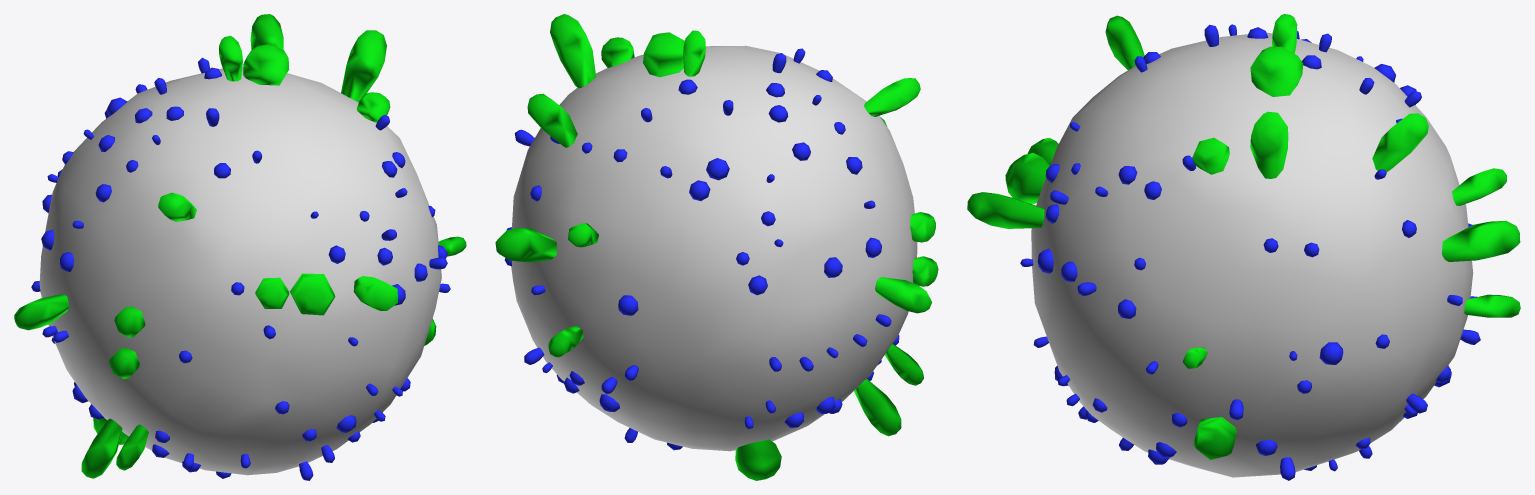
Rendered from obj_voxelmaterialchunk_t1large.fbx.
3 views of the same model, side by side, from view 1: azimuth 30°, elevation 25°; view 2: azimuth 150°, elevation 25°; view 3: azimuth 270°, elevation 25° (orthographic). The views are drawn at different scales.
Visible parts, largest first — view 1: chunk_large.001, clutter_bulbrock_large.001, clutter_bulbcrystal_large.001; view 2: chunk_large.001, clutter_bulbrock_large.001, clutter_bulbcrystal_large.001; view 3: chunk_large.001, clutter_bulbrock_large.001, clutter_bulbcrystal_large.001.
Boxes of the visible parts, x1=… form: chunk_large.001: x1=39, y1=67, x2=441, y2=475; clutter_bulbrock_large.001: x1=14, y1=14, x2=466, y2=478; clutter_bulbcrystal_large.001: x1=31, y1=57, x2=450, y2=480; chunk_large.001: x1=511, y1=45, x2=917, y2=451; clutter_bulbrock_large.001: x1=495, y1=14, x2=938, y2=480; clutter_bulbcrystal_large.001: x1=504, y1=48, x2=899, y2=450; chunk_large.001: x1=1031, y1=32, x2=1473, y2=477; clutter_bulbrock_large.001: x1=967, y1=14, x2=1520, y2=459; clutter_bulbcrystal_large.001: x1=1020, y1=24, x2=1480, y2=480.
Size of the model in its own units: 14.69 by 13.75 by 15.3.
